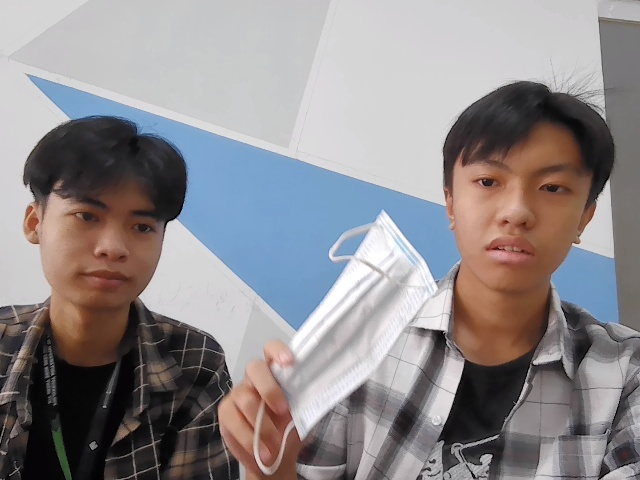human: (444, 78, 608, 287), (29, 115, 181, 305)
mask: (262, 211, 440, 430)
